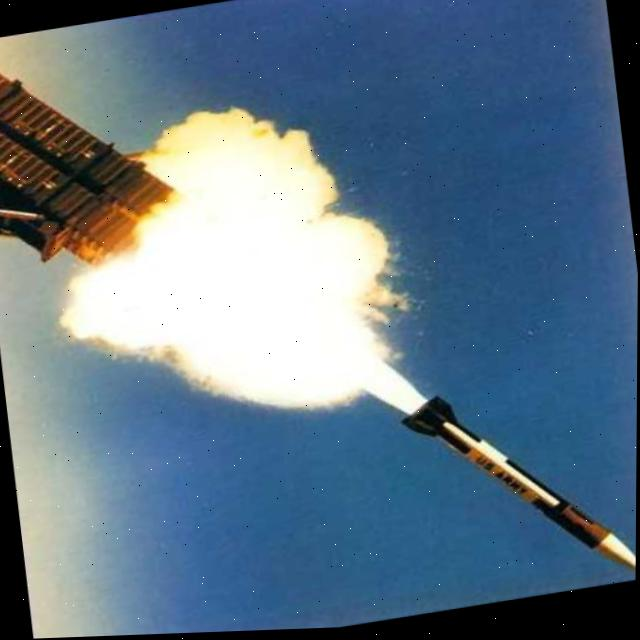missile: (381, 367, 638, 617)
